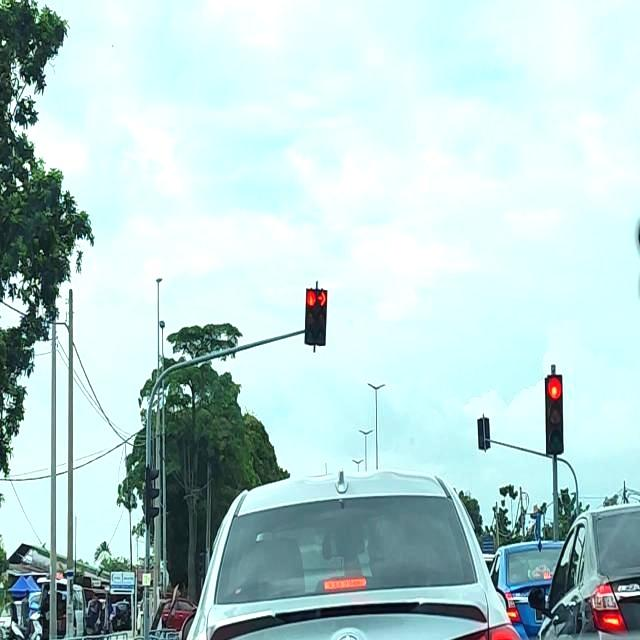Red: (545, 374, 564, 454), (304, 286, 317, 344), (316, 288, 328, 346)
